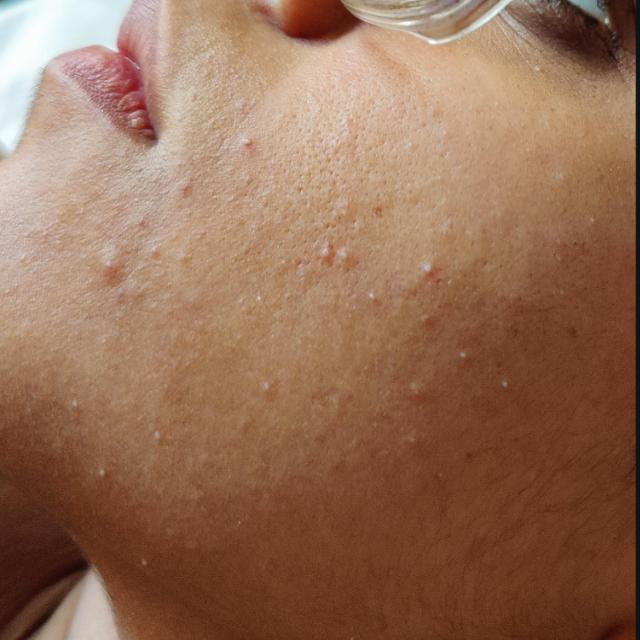fungal: (97, 144, 519, 536)
